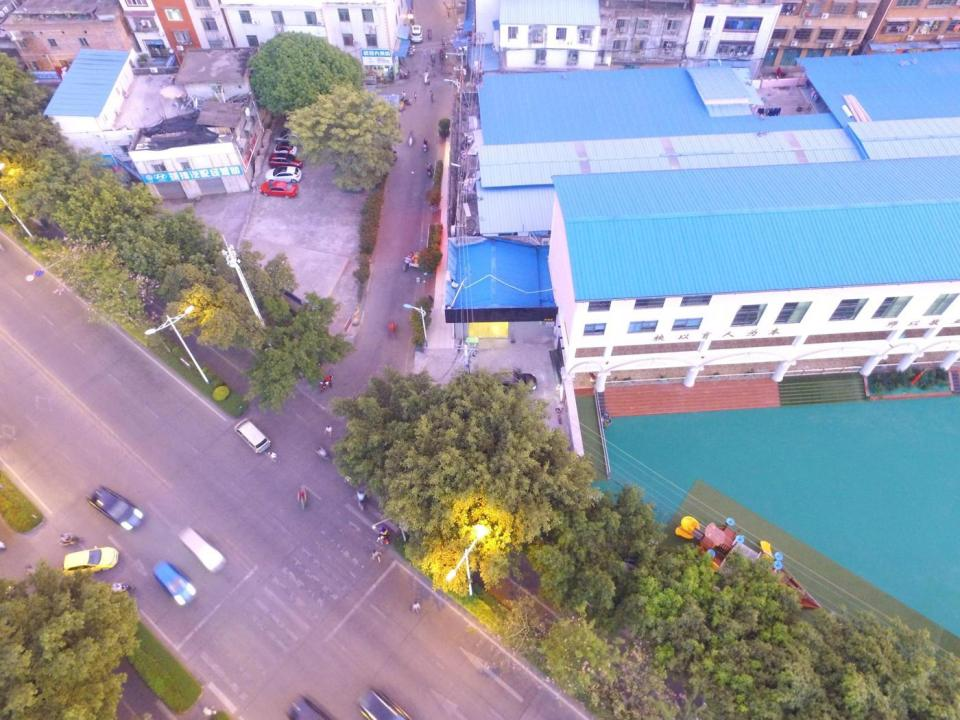car: (87, 485, 142, 531), (152, 561, 196, 605), (357, 688, 410, 720), (62, 546, 120, 573), (485, 371, 538, 394), (284, 695, 331, 718), (267, 152, 304, 172), (260, 180, 297, 198), (274, 129, 309, 147), (264, 166, 302, 182), (274, 144, 297, 154), (410, 25, 422, 44)
van: (178, 527, 228, 572), (235, 417, 270, 452)
